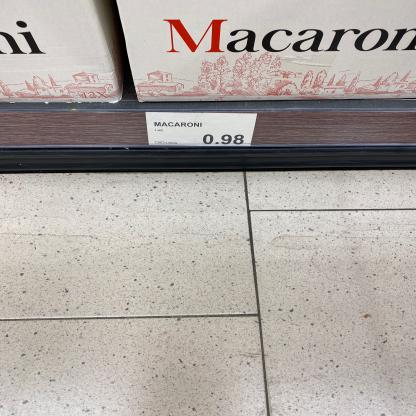prtg: (147, 113, 258, 147)
